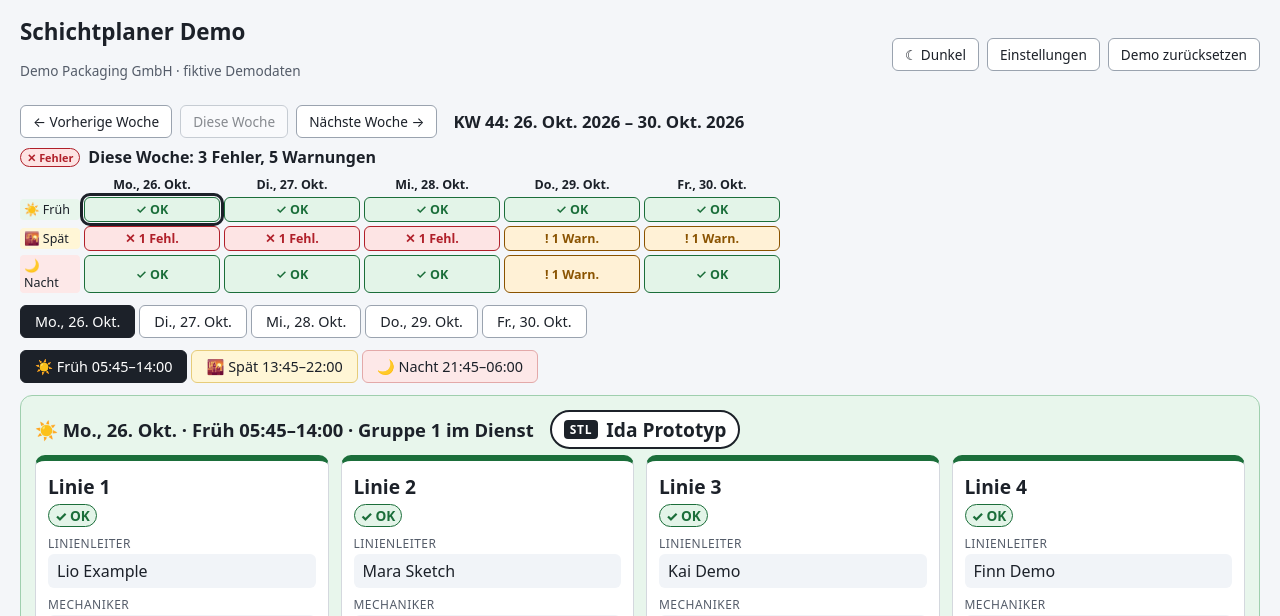
Test: line-first shift view › selects a day and shift by clicking a chip
Click the button with aria-label "Do., 29. Okt. Spät: ".
click(572, 239)  # box [504,226,640,251]
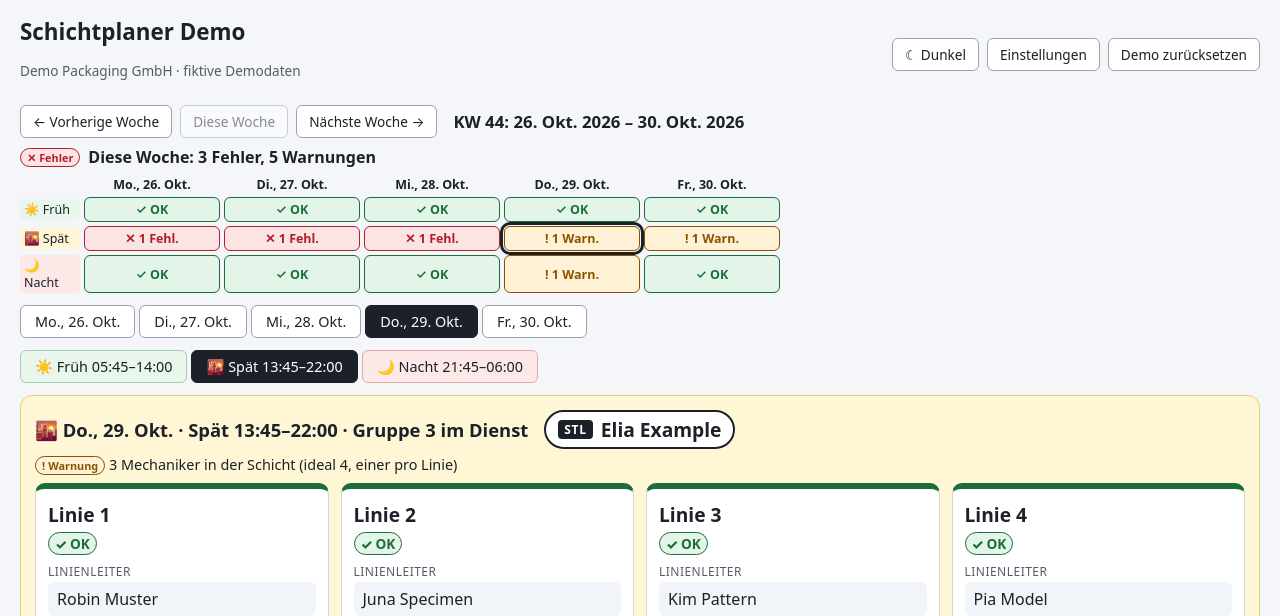
Result: the heading "🌇 Do., 29. Okt. · Spät 13:45–22:00 · Gruppe 3 im Dienst" is shown at [35,417,528,442]
